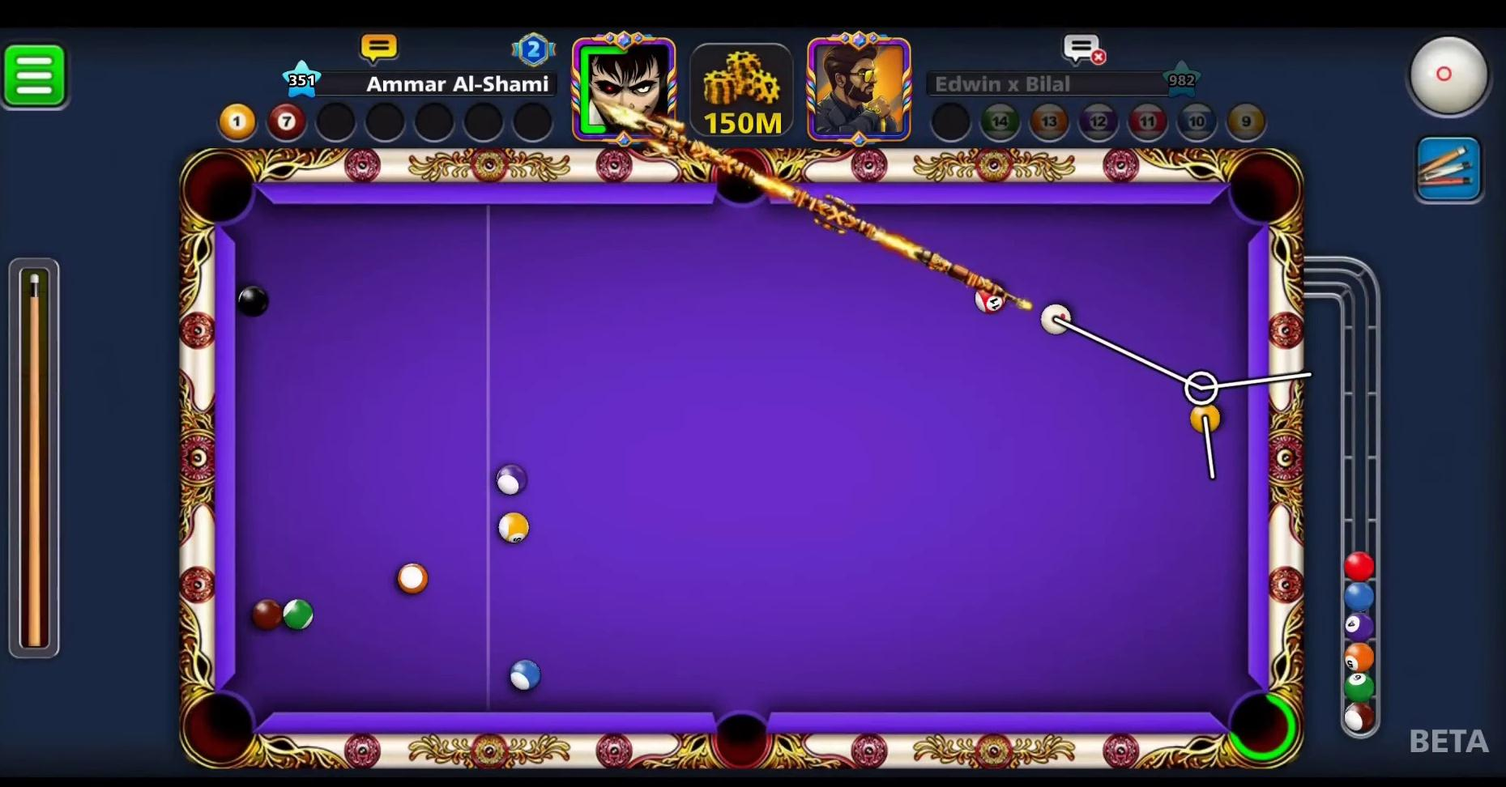Ball: (496, 652, 548, 700), (966, 276, 1016, 324), (225, 282, 279, 323), (487, 458, 535, 499), (391, 561, 437, 602), (493, 510, 535, 547), (245, 598, 287, 634), (1187, 399, 1224, 439), (281, 594, 317, 635)
Force: (0, 257, 65, 659)
Guideline: (1042, 304, 1311, 479)
Hole: (168, 678, 273, 774), (1211, 676, 1305, 776), (174, 140, 266, 234), (695, 688, 791, 776), (1219, 141, 1305, 236), (698, 143, 787, 221)
Play_Area: (232, 202, 1239, 715)
Spin: (1402, 27, 1503, 129)
White: (1034, 298, 1077, 341)
